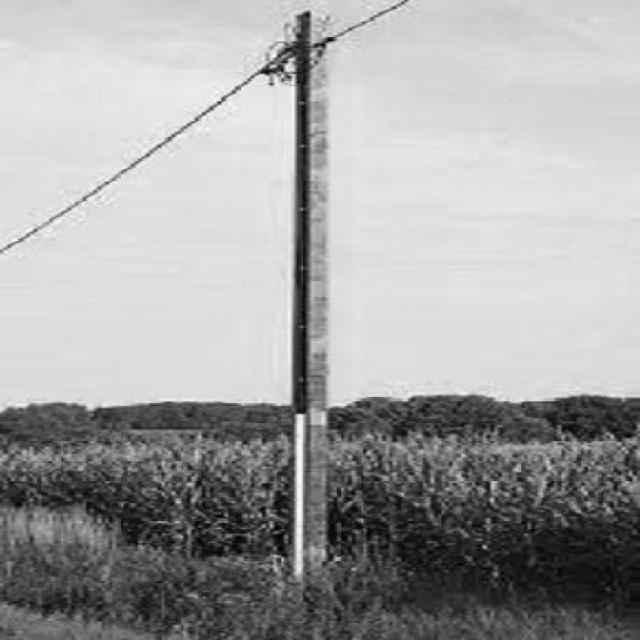Pole: (295, 12, 329, 584)
